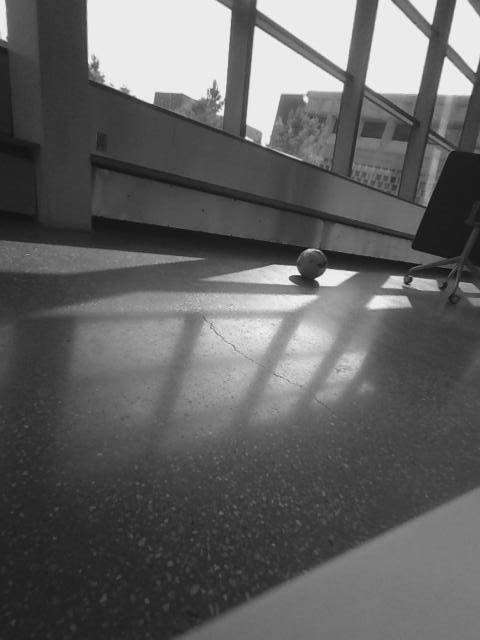ball: (292, 247, 331, 281)
